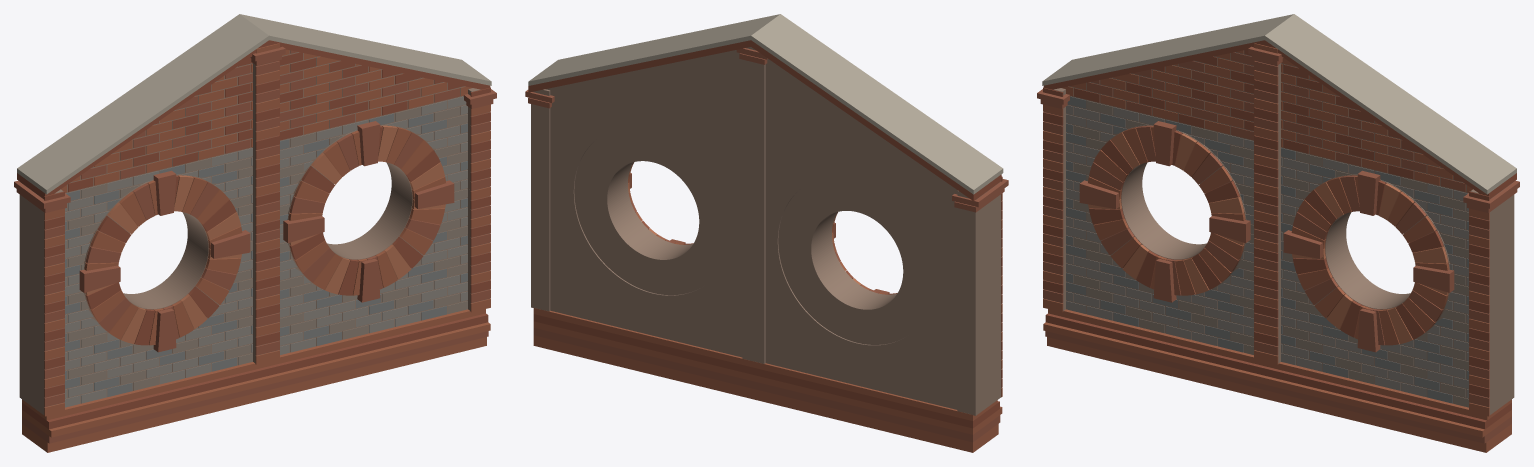
File: hongkou-royal-hotel-paired-brick-roundels-raw.glb
The picture shows the model from 3 angles, left to right: view 1: azimuth 30°, elevation 25°; view 2: azimuth 150°, elevation 25°; view 3: azimuth 330°, elevation 25°; orthographic projection.
Visible parts, largest first — view 1: 皇家旅馆旧址中段山墙的双圆窗与放射砖券; view 2: 皇家旅馆旧址中段山墙的双圆窗与放射砖券; view 3: 皇家旅馆旧址中段山墙的双圆窗与放射砖券.
Boxes of the visible parts, x1=… form: 皇家旅馆旧址中段山墙的双圆窗与放射砖券: x1=14, y1=14, x2=496, y2=452; 皇家旅馆旧址中段山墙的双圆窗与放射砖券: x1=525, y1=14, x2=1008, y2=452; 皇家旅馆旧址中段山墙的双圆窗与放射砖券: x1=1037, y1=14, x2=1519, y2=452.
Size of the model in its own units: 3.91 by 3.01 by 0.47.
